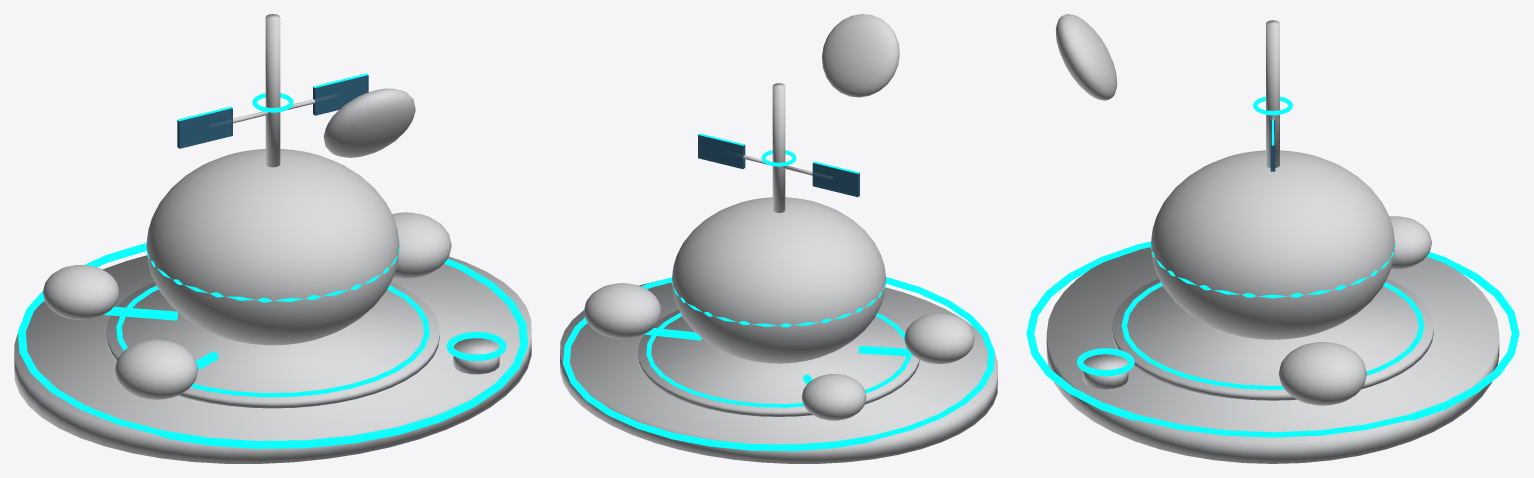
Rendered from azure_operations_hub.glb.
3 views of the same model, side by side, from view 1: azimuth 30°, elevation 25°; view 2: azimuth 150°, elevation 25°; view 3: azimuth 270°, elevation 25° (orthographic). The views are drawn at different scales.
Parts seen in each view (by area): view 1: AzureOperationsHub; view 2: AzureOperationsHub; view 3: AzureOperationsHub.
Boxes of the visible parts, x1,y1,x2,y2 form: AzureOperationsHub: (14, 14, 531, 463); AzureOperationsHub: (560, 14, 997, 463); AzureOperationsHub: (1026, 14, 1519, 463).
Size of the model in its own units: 6.4 by 4.62 by 6.14.
